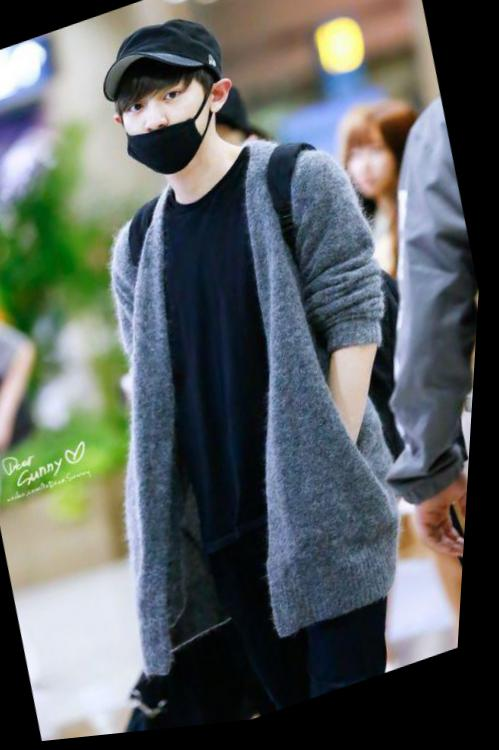NONE: (345, 142, 407, 211)
WRONG: (106, 65, 233, 196)
